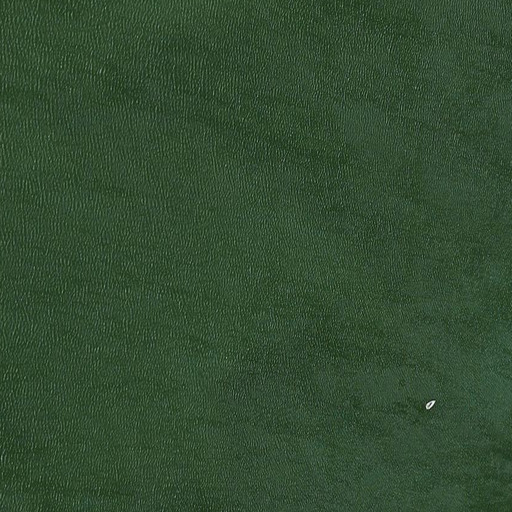ship: (423, 397, 438, 412)
